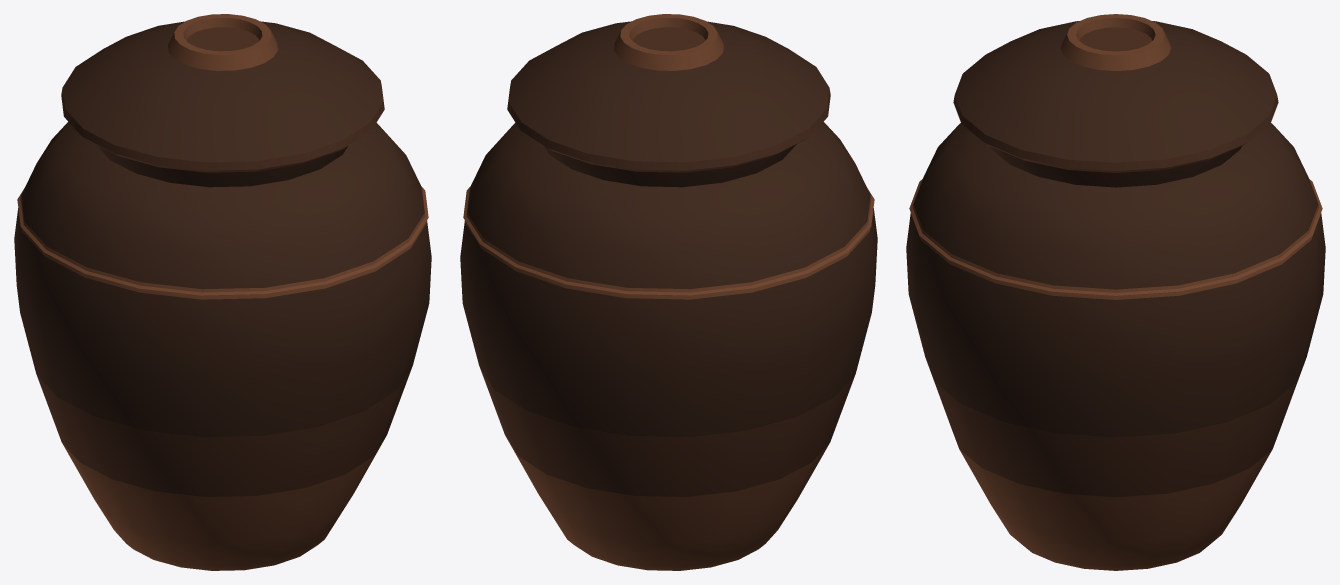
Rendered from SC_Home_Onggi_Jar_L.gltf.
3 views of the same model, side by side, from view 1: azimuth 30°, elevation 25°; view 2: azimuth 150°, elevation 25°; view 3: azimuth 270°, elevation 25° (orthographic).
Visible parts, largest first — view 1: SC_Home_Onggi_Jar_L; view 2: SC_Home_Onggi_Jar_L; view 3: SC_Home_Onggi_Jar_L.
Part boxes in pixels (box(x1,y1,x2,y2)): SC_Home_Onggi_Jar_L: box(14, 14, 431, 570); SC_Home_Onggi_Jar_L: box(460, 14, 877, 570); SC_Home_Onggi_Jar_L: box(906, 14, 1325, 570).
Bounding box in the file's own units: 0.64 × 0.8291 × 0.64.
1 material, 1 textured.
